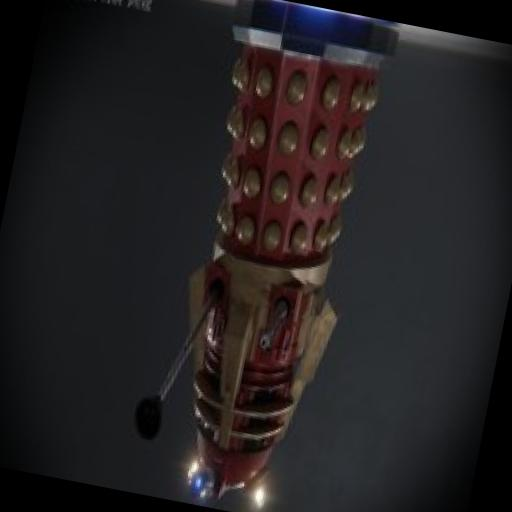dalek: (108, 0, 407, 512)
